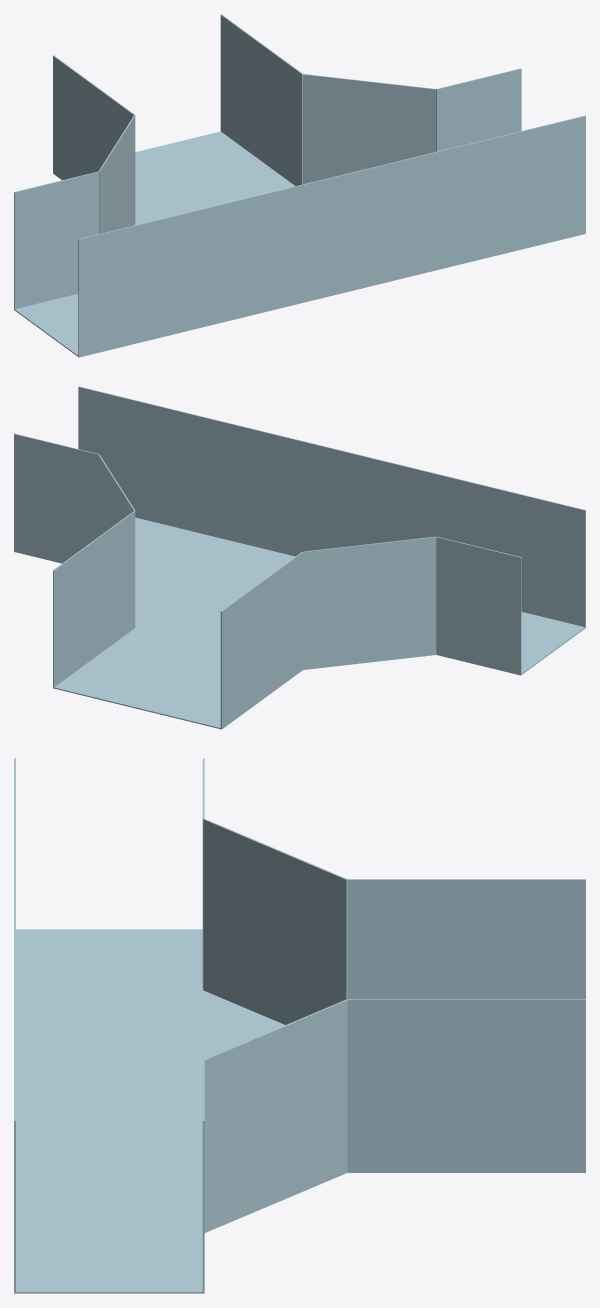
3 renders of one model, top to bottom at view 1: azimuth 30°, elevation 25°; view 2: azimuth 150°, elevation 25°; view 3: azimuth 270°, elevation 25°, orthographic. The views are drawn at different scales.
Visible parts, largest first — view 1: L3-C12; view 2: L3-C12; view 3: L3-C12.
Part boxes in pixels (x1,y1,x2,y2): L3-C12: (14,14,585,357); L3-C12: (14,386,585,729); L3-C12: (14,758,585,1293).
Size of the model in its own units: 0.9 by 0.2 by 0.6.
